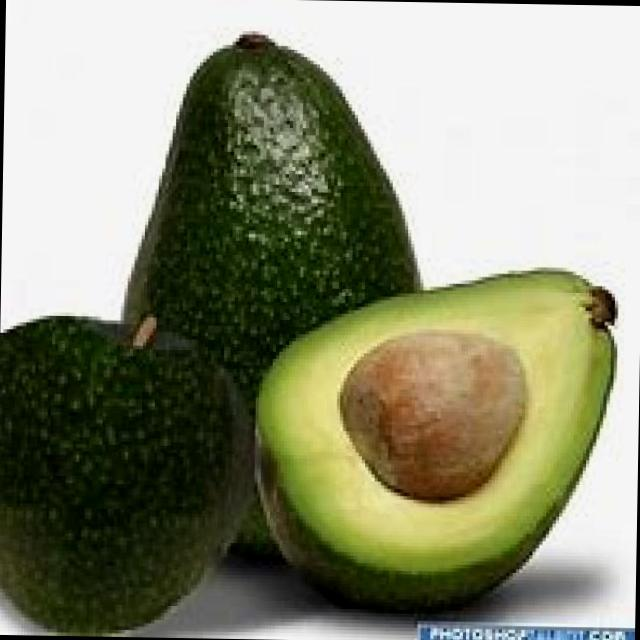avocado: (237, 261, 626, 618), (125, 30, 429, 389), (0, 294, 264, 639)
